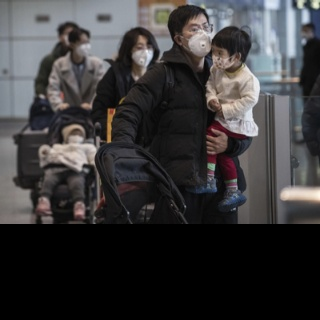with_mask: (183, 19, 212, 56), (133, 40, 154, 66), (212, 45, 231, 71), (76, 35, 93, 58), (67, 129, 84, 145)
